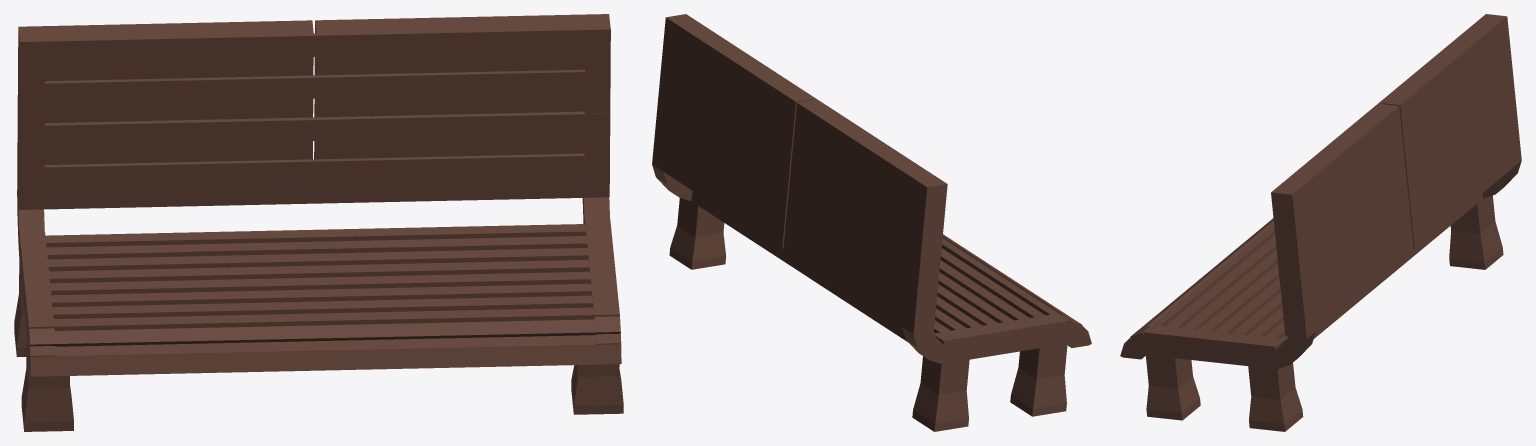
3 views of the same model, side by side, from view 1: azimuth 30°, elevation 25°; view 2: azimuth 150°, elevation 25°; view 3: azimuth 270°, elevation 25° (orthographic). The views are drawn at different scales.
Visible parts, largest first — view 1: node_MeshObject1842966528-PolyPaper21; view 2: node_MeshObject1842966528-PolyPaper21; view 3: node_MeshObject1842966528-PolyPaper21.
Boxes of the visible parts, left/top/right/bottom form: node_MeshObject1842966528-PolyPaper21: left=14, top=14, right=623, bottom=431; node_MeshObject1842966528-PolyPaper21: left=652, top=14, right=1091, bottom=431; node_MeshObject1842966528-PolyPaper21: left=1120, top=14, right=1521, bottom=431.
Size of the model in its own units: 1.25 by 0.6844 by 0.9722.
